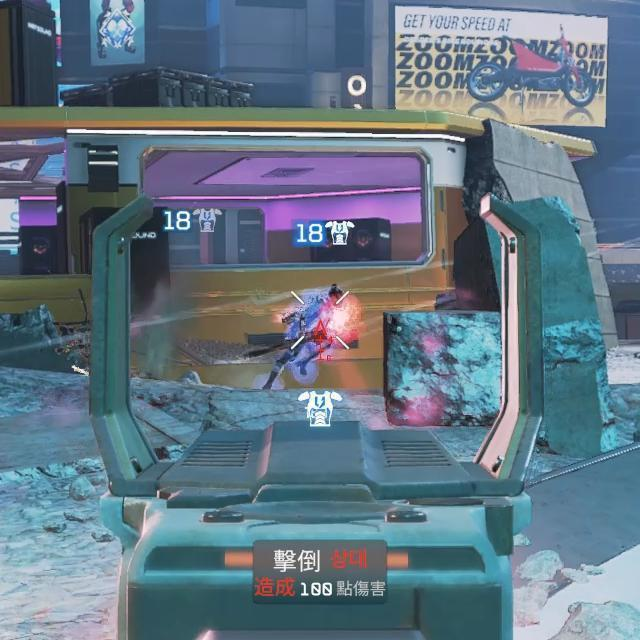avatar: (281, 281, 347, 385)
object: (322, 293, 363, 343)
